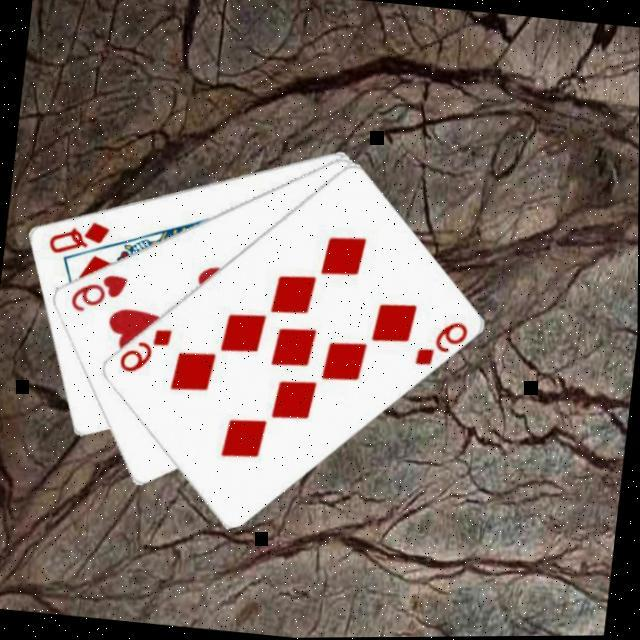6H: (64, 268, 130, 320)
9D: (112, 322, 174, 381), (410, 316, 470, 375)
QD: (42, 214, 112, 264)
